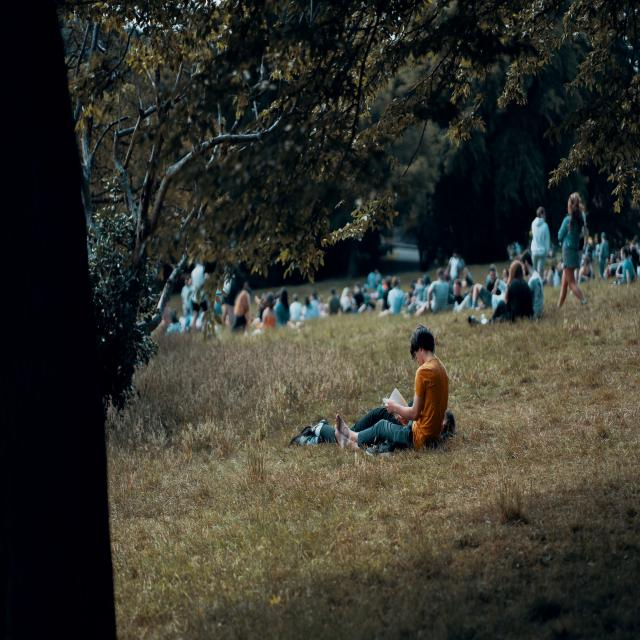adult: (334, 321, 449, 449), (556, 190, 585, 306)
